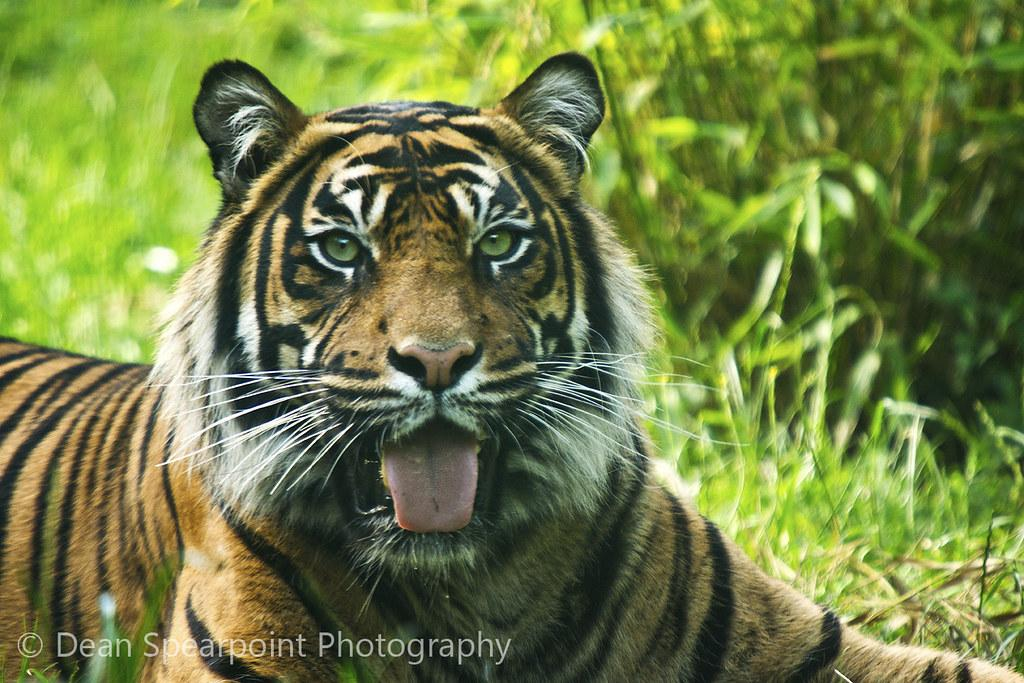tiger: (2, 51, 1021, 682)
